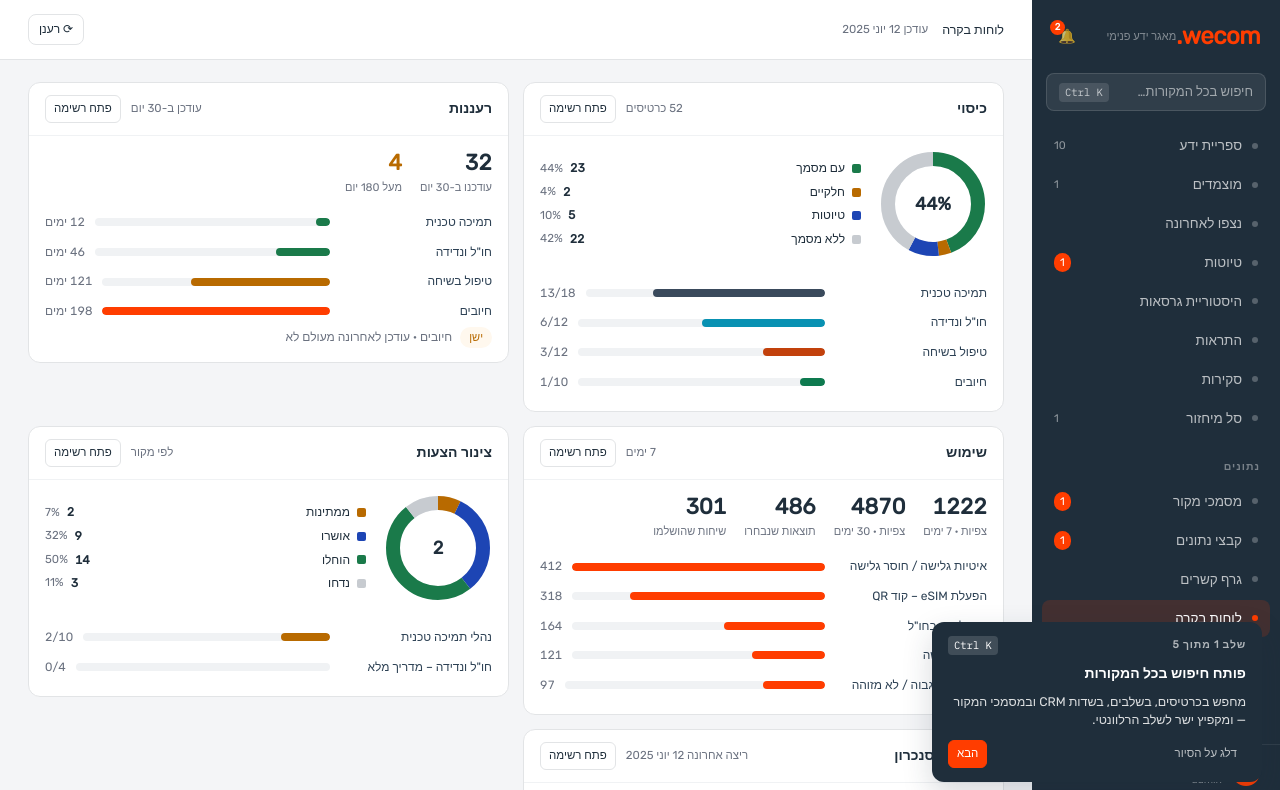
Test: <DashboardsPage> › drills from a bar into the list it summarises
Expected: the text "שימוש" is shown, [946,442,987,464]
Click the text "איטיות גלישה / חוסר גלישה" at [911, 567], box [835,557,987,576]
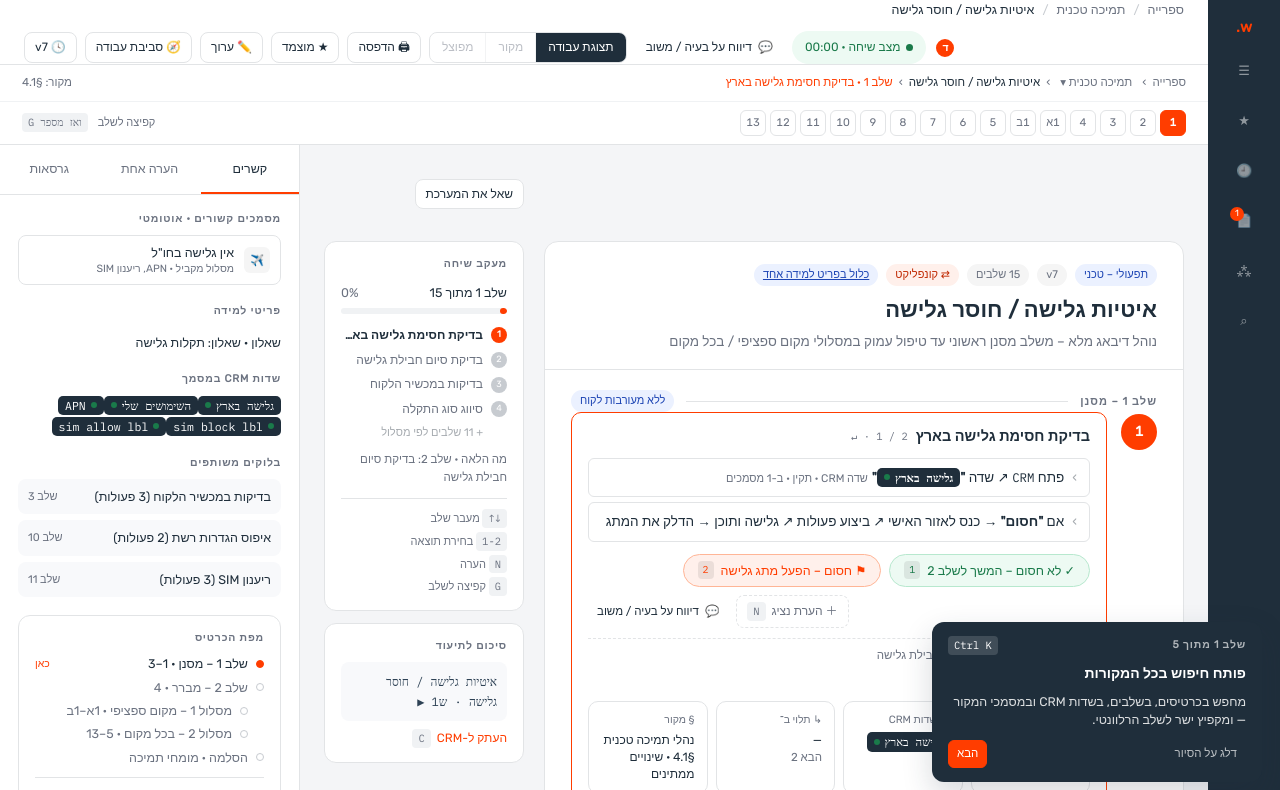
Now the text "15 שלבים" is shown, box [967,264,1029,286]
